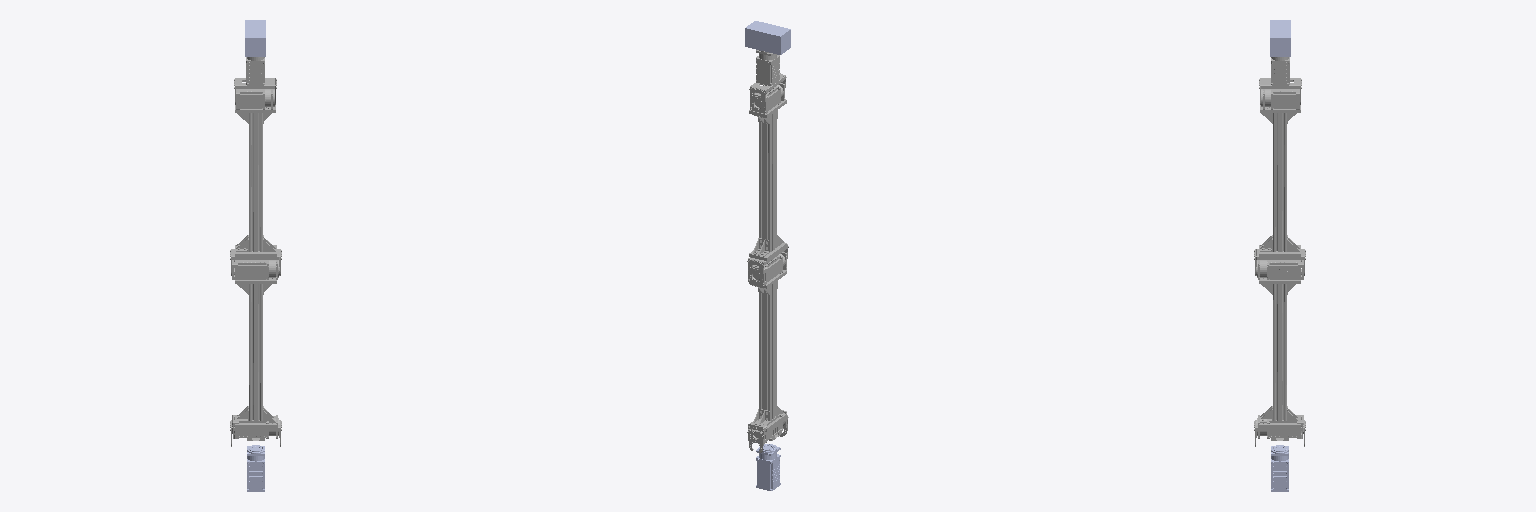
The robot description file, URDF, robot "robotarm_5DOF":
<?xml version="1.0" ?>
<!-- =================================================================================== -->
<!-- |    This document was autogenerated by xacro from robotarm_5DOF.xacro            | -->
<!-- |    EDITING THIS FILE BY HAND IS NOT RECOMMENDED                                 | -->
<!-- =================================================================================== -->
<!-- Revolute-Revolute Manipulator -->
<robot name="robotarm_5DOF" xmlns:xacro="http://www.ros.org/wiki/xacro">
  <!-- ros_control plugin -->
  <gazebo>
    <plugin filename="libgazebo_ros_control.so" name="gazebo_ros_control">
      <robotNamespace>/robotarm_5DOF</robotNamespace>
      <robotSimType>gazebo_ros_control/DefaultRobotHWSim</robotSimType>
    </plugin>
  </gazebo>
  <!-- World -->
  <gazebo reference="world">
  </gazebo>
  <!-- base_link -->
  <gazebo reference="base_link">
    <mu1>0.2</mu1>
    <mu2>0.2</mu2>
    <material>Gazebo/Grey</material>
  </gazebo>
  <!-- Link1 -->
  <gazebo reference="link1">
    <mu1>0.2</mu1>
    <mu2>0.2</mu2>
    <material>Gazebo/Grey</material>
  </gazebo>
  <!-- Link2 -->
  <gazebo reference="link2">
    <mu1>0.2</mu1>
    <mu2>0.2</mu2>
    <material>Gazebo/Grey</material>
  </gazebo>
  <!-- Link3 -->
  <gazebo reference="link3">
    <mu1>0.2</mu1>
    <mu2>0.2</mu2>
    <material>Gazebo/Grey</material>
  </gazebo>
  <!-- Link4 -->
  <gazebo reference="link4">
    <mu1>0.2</mu1>
    <mu2>0.2</mu2>
    <material>Gazebo/Grey</material>
  </gazebo>
  <!-- link_end -->
  <gazebo reference="link_end">
    <mu1>0.2</mu1>
    <mu2>0.2</mu2>
    <material>Gazebo/Grey</material>
  </gazebo>
  <!-- ros_control plugin deleted stuff from here but on top should be the same -->
  <!-- Used for fixing robot to Gazebo 'base_link' -->
  <link name="world">
  </link>
  <joint name="world" type="fixed">
    <origin rpy="0 0 0" xyz="0 0 0.13"/>
    <parent link="world"/>
    <child link="base_link"/>
  </joint>
  <link name="base_link">
    <inertial>
      <origin rpy="0 0 0" xyz="0 0 0"/>
      <mass value="0.854996764620972"/>
      <inertia ixx="0.00127367657233133" ixy="-9.78923195537527E-13" ixz="-2.93635909372344E-13" iyy="0.00127209146192002" iyz="1.73326120869336E-07" izz="0.000375253307095422"/>
    </inertial>
    <visual>
      <origin rpy="0 0 0" xyz="0 0 0"/>
      <geometry>
        <mesh filename="package://manipulator_h_description/meshes_5DOF/base_link.STL"/>
      </geometry>
      <material name="">
        <color rgba="0.792156862745098 0.819607843137255 0.929411764705882 1"/>
      </material>
    </visual>
    <collision>
      <origin rpy="0 0 0" xyz="0 0 0"/>
      <geometry>
        <mesh filename="package://manipulator_h_description/meshes_5DOF/base_link.STL"/>
      </geometry>
    </collision>
  </link>
  <joint name="joint1" type="revolute">
    <origin rpy="0 0 0" xyz="0 0 0.075"/>
    <parent link="base_link"/>
    <child link="link1"/>
    <limit effort="1000" lower="-3.14" upper="3.14" velocity="6.5"/>
    <dynamics damping="1"/>
    <axis xyz="0 0 1"/>
  </joint>

  <link name="link1">
    <inertial>
      <origin rpy="3.14 0 0" xyz="0 0 -0.039"/>
      <mass value="0.933973833115025"/>
      <inertia ixx="0.00130038494228848" ixy="-2.95844372439728E-13" ixz="-3.01467763831998E-11" iyy="0.000422142499355785" iyz="-1.73339894386112E-07" izz="0.0013123580996147"/>
    </inertial>
    <visual>
      <origin rpy="3.14 0 0" xyz="0 0 -0.039"/>
      <geometry>
        <mesh filename="package://manipulator_h_description/meshes_5DOF/link1.STL"/>
      </geometry>
      <material name="">
        <color rgba="0.752941176470588 0.752941176470588 0.752941176470588 1"/>
      </material>
    </visual>
    <collision>
      <origin rpy="3.14 0 0" xyz="0 0 -0.039"/>
      <geometry>
        <mesh filename="package://manipulator_h_description/meshes_5DOF/link1.STL"/>
      </geometry>
    </collision>
  </link>
  <joint name="joint2" type="revolute">
    <origin rpy="1.57 0 0" xyz="0 0 -0.04"/>
    <parent link="link1"/>
    <child link="link2"/>
    <axis xyz="0 0 1"/>
    <limit effort="1000" lower="-3.14" upper="3.14" velocity="6.5"/>
    <dynamics damping="1"/>
  </joint>

  <link name="link2">
    <inertial>
      <origin rpy="0 0 0" xyz="0 0 0"/>
      <mass value="2.17233482675649"/>
      <inertia ixx="0.012588710454961" ixy="3.24699537352499E-11" ixz="-1.73376873509498E-07" iyy="0.00229782223136213" iyz="-2.39564649019806E-07" izz="0.0112510434237469"/>
    </inertial>
    <visual>
      <origin rpy="0 0 0" xyz="0 0 0"/>
      <geometry>
        <mesh filename="package://manipulator_h_description/meshes_5DOF/link2.STL"/>
      </geometry>
      <material name="">
        <color rgba="0.752941176470588 0.752941176470588 0.752941176470588 1"/>
      </material>
    </visual>
    <collision>
      <origin rpy="0 0 0" xyz="0 0 0"/>
      <geometry>
        <mesh filename="package://manipulator_h_description/meshes_5DOF/link2.STL"/>
      </geometry>
    </collision>
  </link>
  <joint name="joint3" type="revolute">
    <origin rpy="0 0 0" xyz="0 0.548 0"/>
    <parent link="link2"/>
    <child link="link3"/>
    <axis xyz="0 0 1"/>
    <limit effort="1000" lower="-3.14" upper="3.14" velocity="6.5"/>
    <dynamics damping="1"/>
  </joint>

  <link name="link3">
    <inertial>
      <origin rpy="0 0 0" xyz="0 0 0"/>
      <mass value="2.03963402194097"/>
      <inertia ixx="0.0121595677954515" ixy="1.8895677510483E-12" ixz="1.26403080065892E-07" iyy="0.00186854119614137" iyz="-2.39564391781716E-07" izz="0.011185917848878"/>
    </inertial>
    <visual>
      <origin rpy="0 0 0" xyz="0 0 0"/>
      <geometry>
        <mesh filename="package://manipulator_h_description/meshes_5DOF/link3.STL"/>
      </geometry>
      <material name="">
        <color rgba="0.752941176470588 0.752941176470588 0.752941176470588 1"/>
      </material>
    </visual>
    <collision>
      <origin rpy="0 0 0" xyz="0 0 0"/>
      <geometry>
        <mesh filename="package://manipulator_h_description/meshes_5DOF/link3.STL"/>
      </geometry>
    </collision>
  </link>
  <joint name="joint4" type="revolute">
    <origin rpy="0 0 0" xyz="0 0.548 0"/>
    <parent link="link3"/>
    <child link="link4"/>
    <axis xyz="0 0 1"/>
    <limit effort="1000" lower="-3.14" upper="3.14" velocity="6.5"/>
    <dynamics damping="0.7"/>
  </joint>

  <link name="link4">
    <inertial>
      <origin rpy="0 0 0" xyz="-5.84108303602587E-11 0.093757042570968 0.000563667312071903"/>
      <mass value="0.86104149872866"/>
      <inertia ixx="1.0" ixy="0.0" ixz="0.0" iyy="1.0" iyz="0.0" izz="1.0"/>
      <!---inertia
        ixx="0.000958719090443109"
        ixy="-6.78889479385674E-14"
        ixz="-1.92825748989735E-12"
        iyy="0.000454069680151404"
        iyz="-2.64915719473377E-07"
        izz="0.000905174777740181" /-->
    </inertial>
    <visual>
      <origin rpy="0 0 0" xyz="0 0 0"/>
      <geometry>
        <mesh filename="package://manipulator_h_description/meshes_5DOF/link4.STL"/>
      </geometry>
      <material name="">
        <color rgba="0.752941176470588 0.752941176470588 0.752941176470588 1"/>
      </material>
    </visual>
    <collision>
      <origin rpy="0 0 0" xyz="0 0 0"/>
      <geometry>
        <mesh filename="package://manipulator_h_description/meshes_5DOF/link4.STL"/>
      </geometry>
    </collision>
  </link>
  <joint name="joint5" type="revolute">
    <origin rpy="0 0 0" xyz="0 0.159 0"/>
    <parent link="link4"/>
    <child link="end"/>
    <axis xyz="0 1 0"/>
    <limit effort="1000" lower="-3.14" upper="3.14" velocity="6.5"/>
    <dynamics damping="0.7"/>
  </joint>

  <link name="end">
    <inertial>
      <origin rpy="0 0 0" xyz="0 0.03 0"/>
      <mass value="0.01"/>
      <inertia ixx="1.0" ixy="0.0" ixz="0.0" iyy="1.0" iyz="0.0" izz="1.0"/>
      <!--inertia
        ixx="0.000259199999999999"
        ixy="5.34084614707402E-19"
        ixz="-9.20138409382816E-20"
        iyy="0.000648"
        iyz="4.45440999867654E-20"
        izz="0.000647999999999999" /-->
    </inertial>
    <visual>
      <origin rpy="0 0 0" xyz="0 0.06 0"/>
      <geometry>
        <mesh filename="package://manipulator_h_description/meshes_5DOF/end.STL"/>
      </geometry>
      <material name="">
        <color rgba="0.792156862745098 0.819607843137255 0.933333333333333 1"/>
      </material>
    </visual>
    <collision>
      <origin rpy="0 0 0" xyz="0 0.06 0"/>
      <geometry>
        <mesh filename="package://manipulator_h_description/meshes_5DOF/end.STL"/>
      </geometry>
    </collision>
  </link>
  
  <gazebo>
    <plugin filename="libgazebo_ros_control.so" name="gazebo_ros_control">
      <robotSimType>gazebo_ros_control/DefaultRobotHWSim</robotSimType>
      <legacyModeNS>true</legacyModeNS>
    </plugin>
  </gazebo>
</robot>

--- Render facts (derived) ---
Views: 3 orthographic renders of the robot side by side, from view 1: azimuth 90°, elevation 25°; view 2: azimuth 150°, elevation 25°; view 3: azimuth 270°, elevation 25°.
Robot: robotarm_5DOF — 7 links, 6 joints (5 revolute, 1 fixed); root link world; default pose: all joints at 0.
Visible links, largest first — view 1: link3, link2, link4, base_link, end, link1; view 2: link3, link2, end, link4, base_link; view 3: link3, link2, link4, base_link, end, link1.
Link boxes in pixels (x1,y1,x2,y2): link3: [230, 89, 281, 275]; link2: [230, 260, 281, 446]; link4: [234, 57, 276, 104]; base_link: [247, 445, 264, 491]; end: [245, 20, 265, 56]; link1: [232, 415, 279, 440]; link3: [747, 83, 788, 281]; link2: [747, 252, 788, 452]; end: [745, 21, 790, 54]; link4: [749, 50, 786, 109]; base_link: [756, 444, 780, 490]; link3: [1254, 89, 1305, 275]; link2: [1254, 260, 1305, 446]; link4: [1259, 57, 1301, 104]; base_link: [1271, 445, 1288, 491]; end: [1270, 20, 1290, 56]; link1: [1256, 415, 1303, 440].
Bounding box of the posed robot: 0.12 × 0.1504 × 1.47 m (x, y, z).
Meshes: 6 distinct files referenced, 6 mesh visuals loaded (6 binary STL).